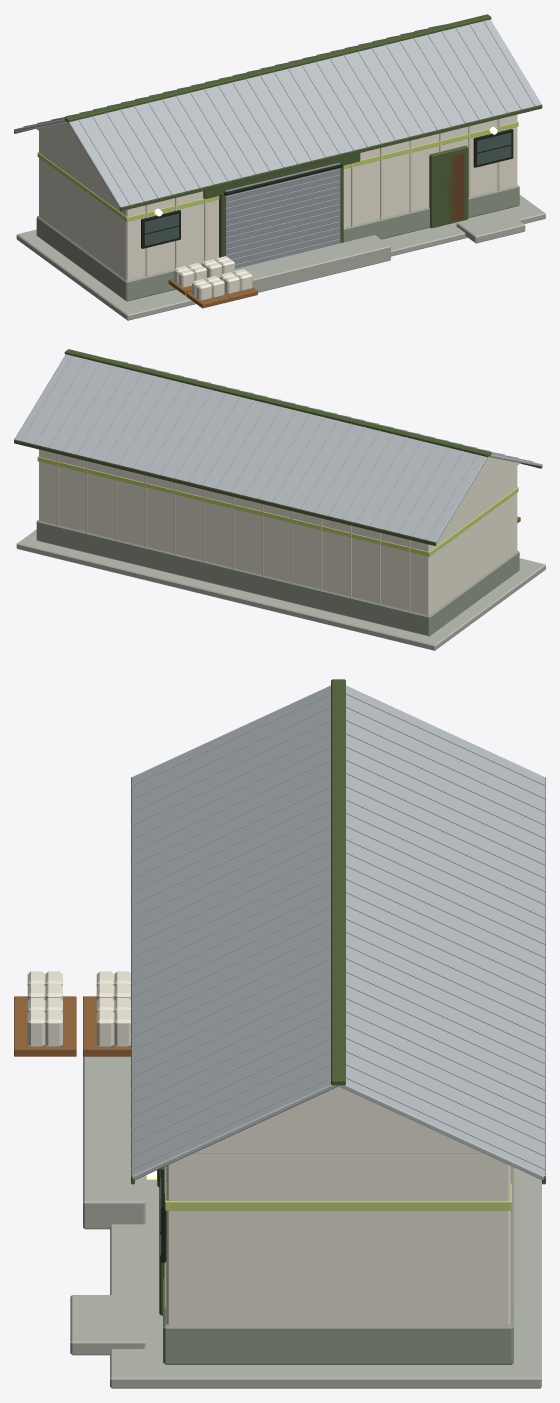
Rendered from packaging_house.glb.
3 views of the same model, one above another, from view 1: azimuth 30°, elevation 25°; view 2: azimuth 150°, elevation 25°; view 3: azimuth 270°, elevation 25° (orthographic). The views are drawn at different scales.
Visible parts, largest first — view 1: PackagingHouse; view 2: PackagingHouse; view 3: PackagingHouse.
Boxes of the visible parts, <box> form: PackagingHouse: <box>14,14,545,320</box>; PackagingHouse: <box>14,349,545,650</box>; PackagingHouse: <box>14,679,545,1388</box>.
Bounding box in the file's own units: 15.16 × 5.48 × 8.49.
